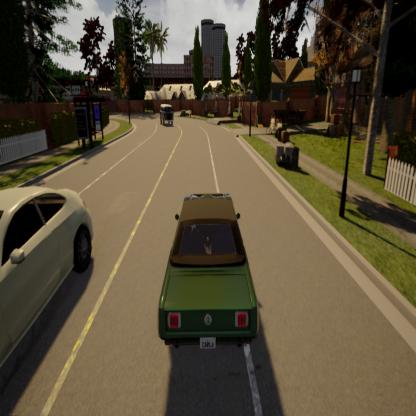Cars: (0, 108, 105, 416), (156, 186, 262, 360), (153, 95, 178, 133)
